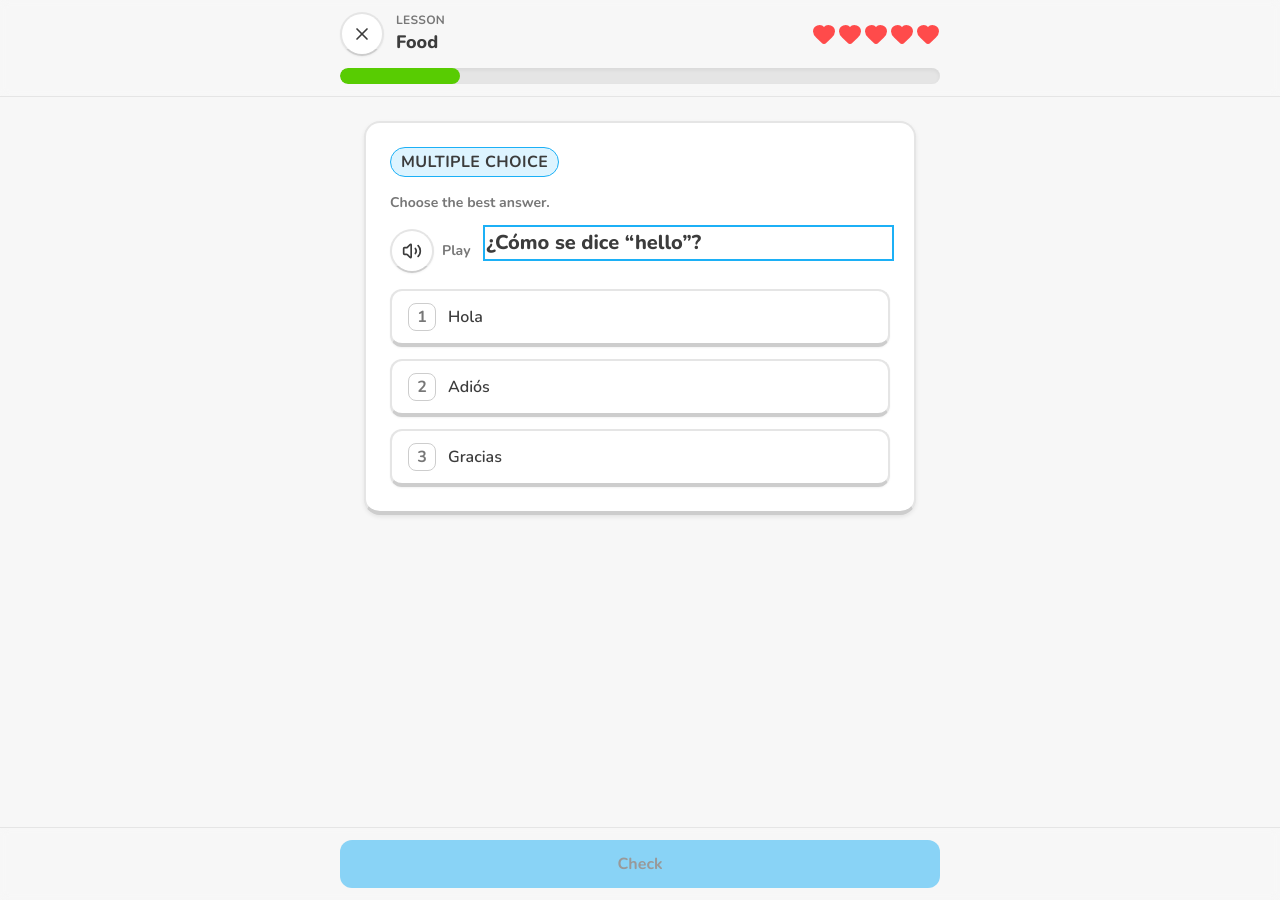
it: LessonPlayer five-exercise journey › enables Check only for valid drafts and preserves draft on mutation error
Check: the heading "¿Cómo se dice “hello”?" is shown, box [486, 229, 701, 256]
Check: the button "Check" is disabled, box [340, 840, 940, 888]
What coordinates should you click on to do the following:
click the radio button labelled "Hola"
I would click on:
 (465, 317)
Its box is [390, 289, 890, 347].
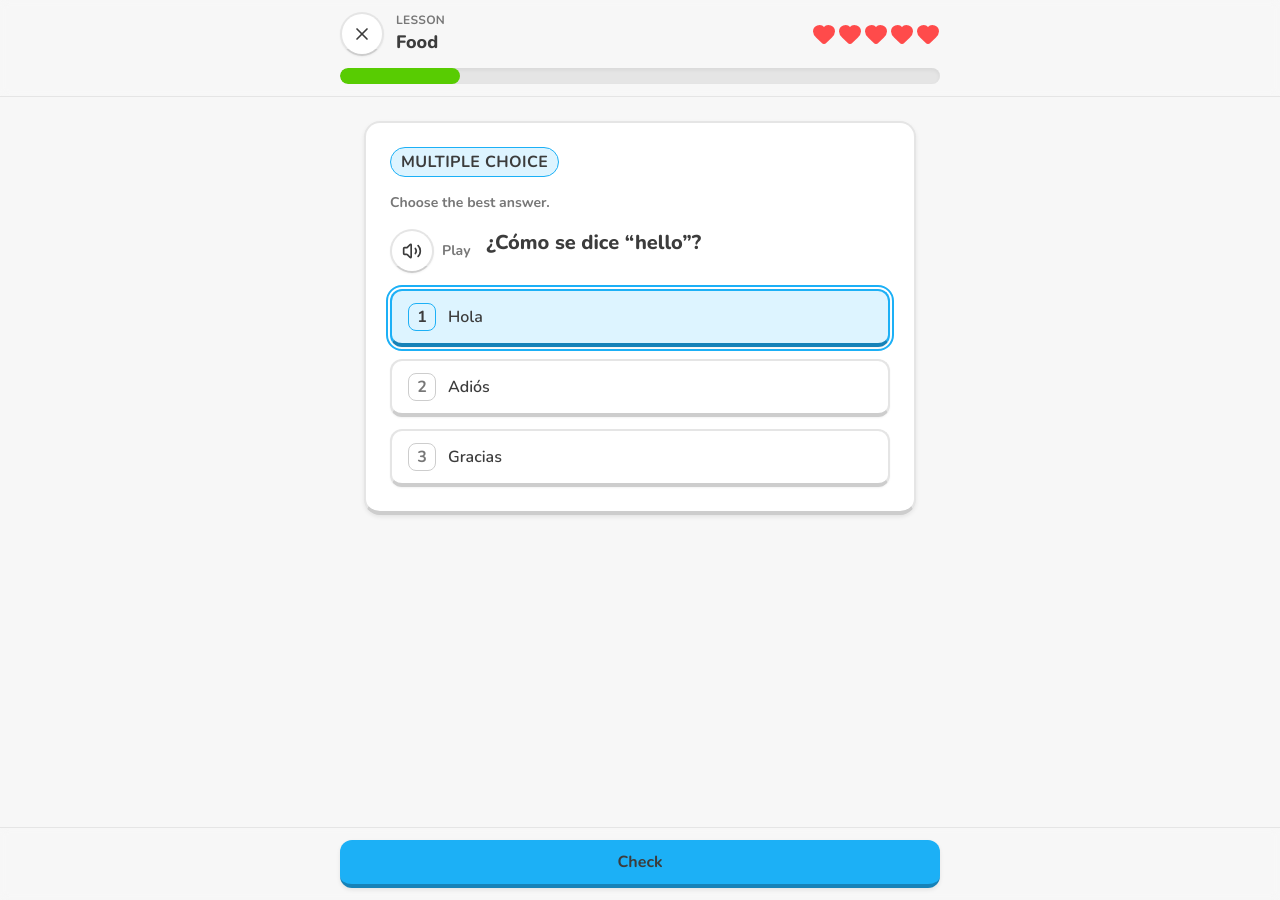
Check: the button "Check" is enabled
What coordinates should you click on to do the following:
click the button "Check"
I would click on:
 (640, 864)
Its box is [340, 840, 940, 888].
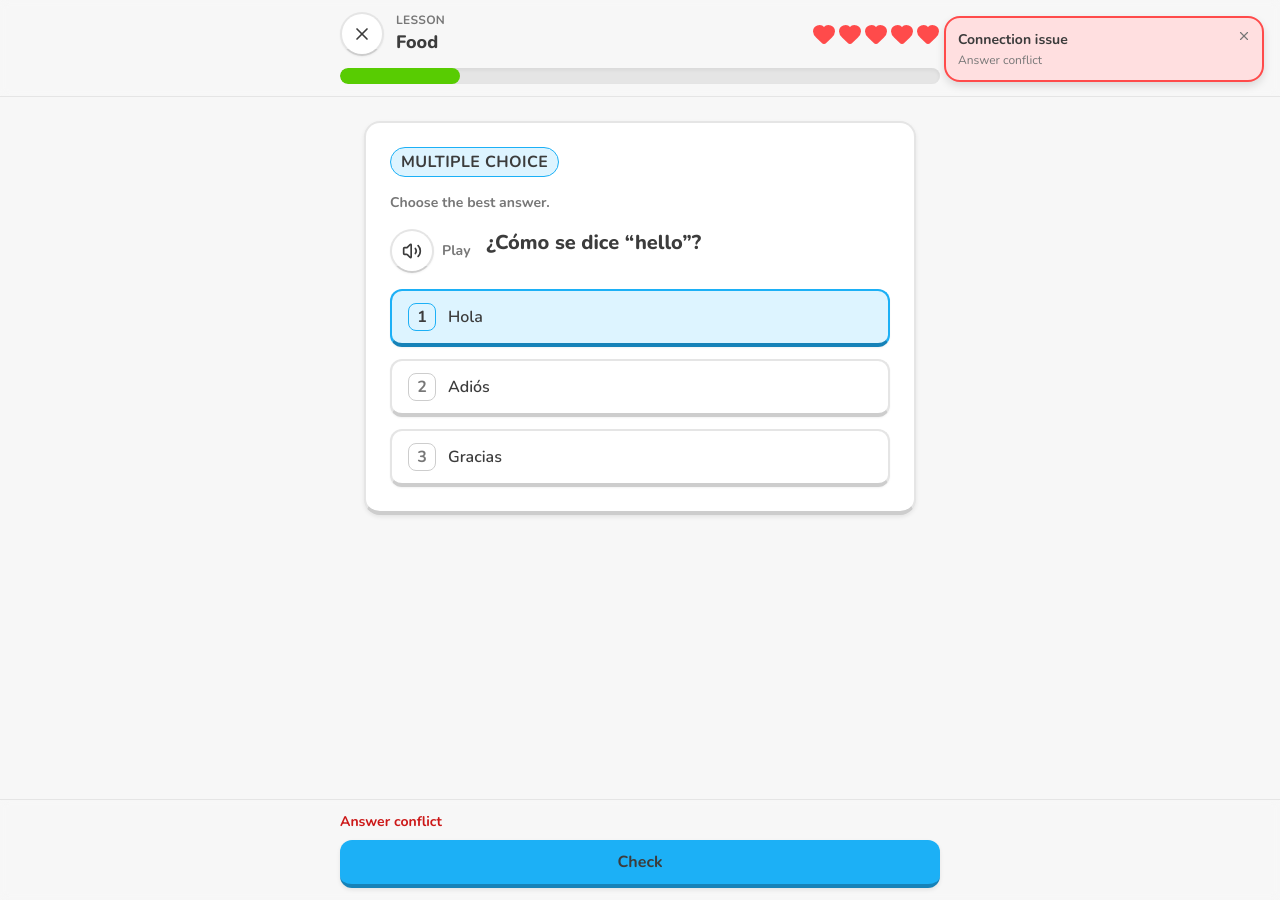
Check: the message "Answer conflict" is shown, box [340, 812, 442, 831]
